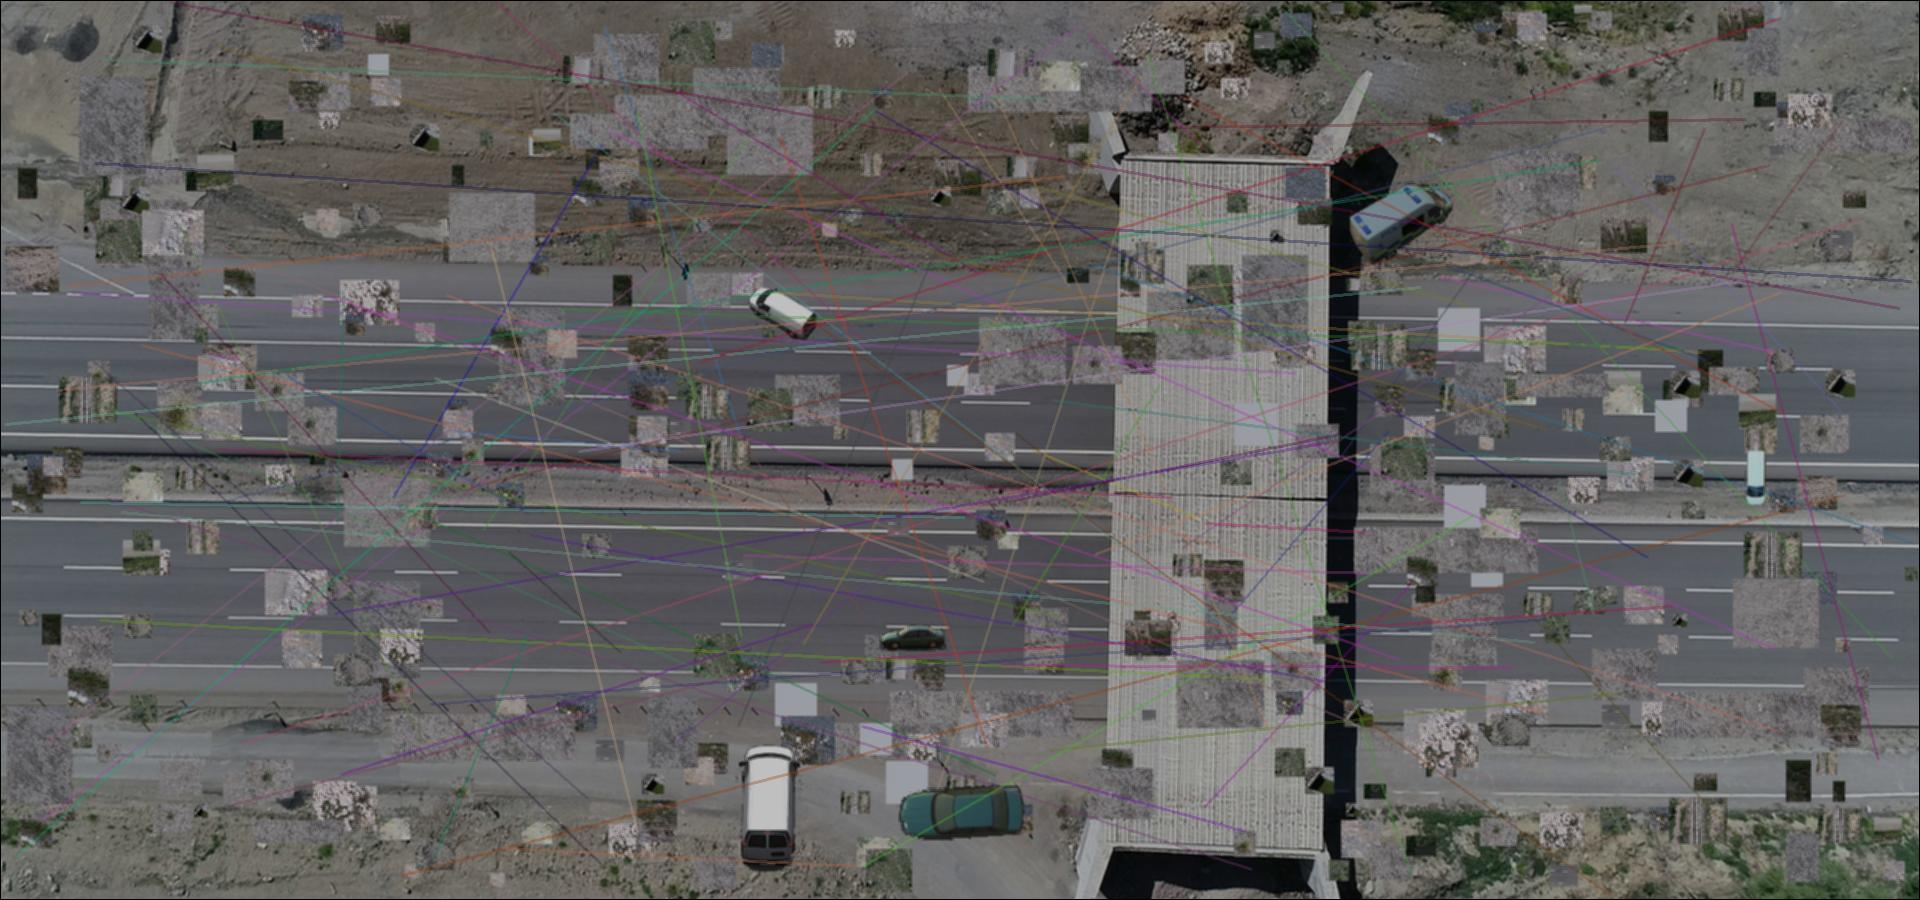arac: (1349, 181, 1453, 266), (736, 743, 803, 872), (898, 784, 1029, 842), (748, 285, 818, 340), (879, 624, 948, 651), (1744, 449, 1771, 507)
